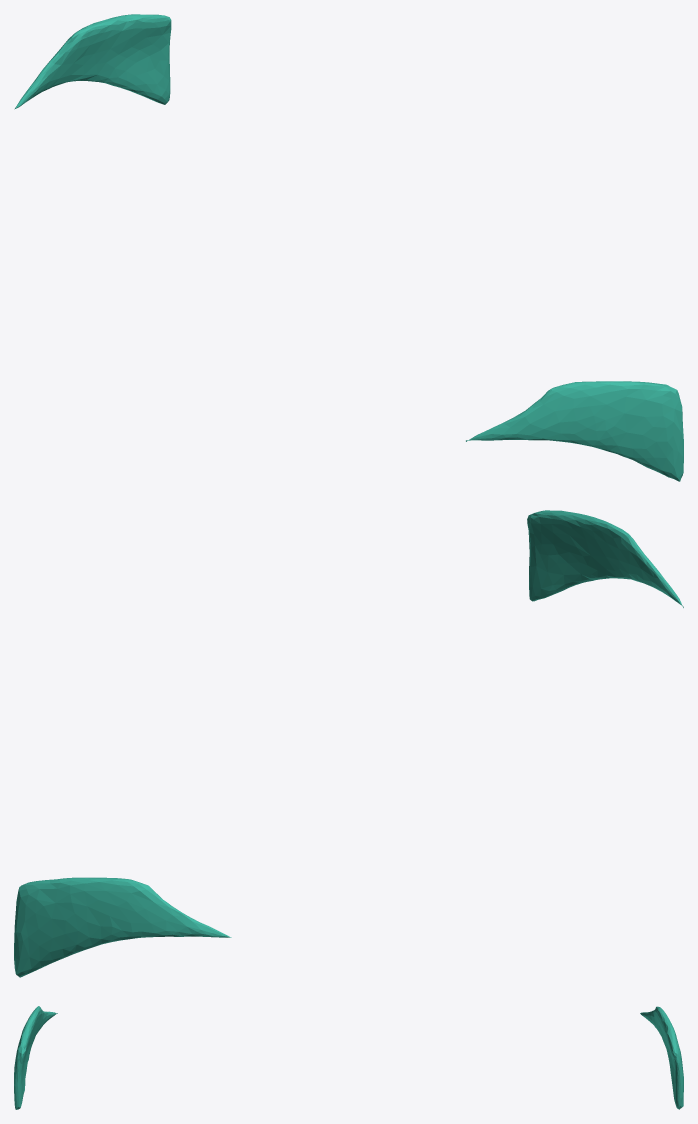
3 renders of one model, top to bottom at view 1: azimuth 30°, elevation 25°; view 2: azimuth 150°, elevation 25°; view 3: azimuth 270°, elevation 25°, orthographic. The views are drawn at different scales.
Visible parts, largest first — view 1: 897.obj; view 2: 897.obj; view 3: 897.obj.
Part boxes in pixels (<box>): 897.obj: <box>14,14,683,481</box>; 897.obj: <box>14,510,683,977</box>; 897.obj: <box>14,1006,683,1109</box>.
Size of the model in its own units: 2097 by 1190 by 10125.
